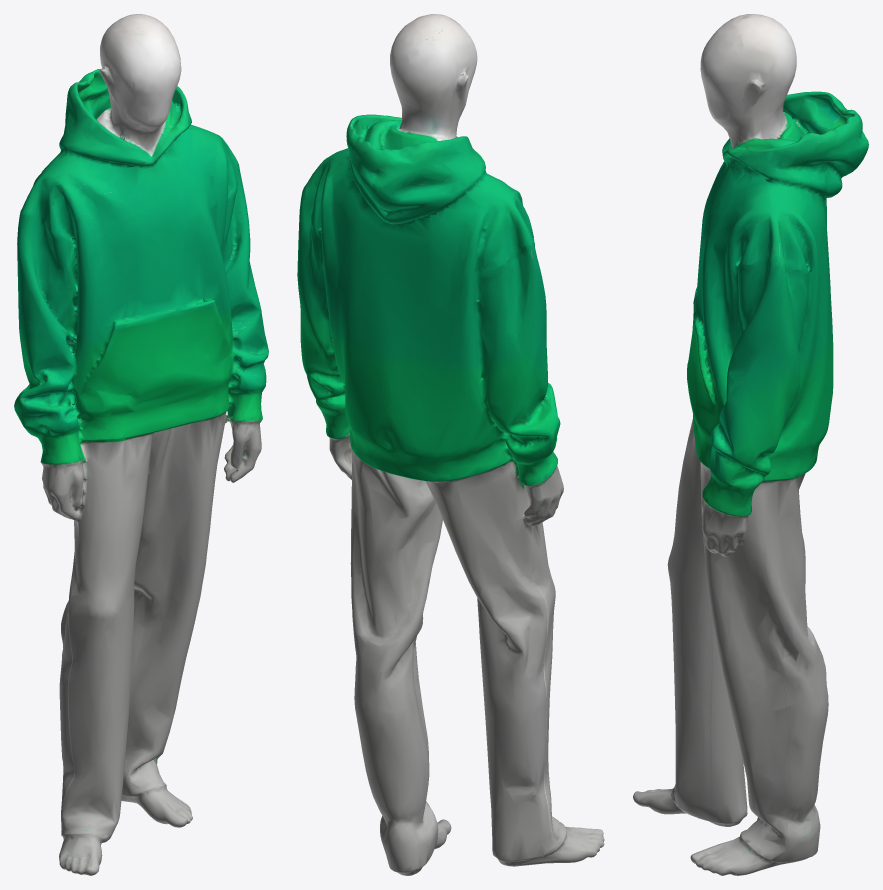
Rendered from avatar-hoodie.glb.
3 views of the same model, side by side, from view 1: azimuth 30°, elevation 25°; view 2: azimuth 150°, elevation 25°; view 3: azimuth 270°, elevation 25° (orthographic). The views are drawn at different scales.
Parts seen in each view (by area): view 1: Mesh_0; view 2: Mesh_0; view 3: Mesh_0.
Part boxes in pixels (x1,y1,x2,y2): Mesh_0: [14, 14, 268, 875]; Mesh_0: [297, 14, 604, 875]; Mesh_0: [633, 14, 868, 875].
Size of the model in its own units: 0.6011 by 1.9 by 0.4818.
1 material, 1 textured.
